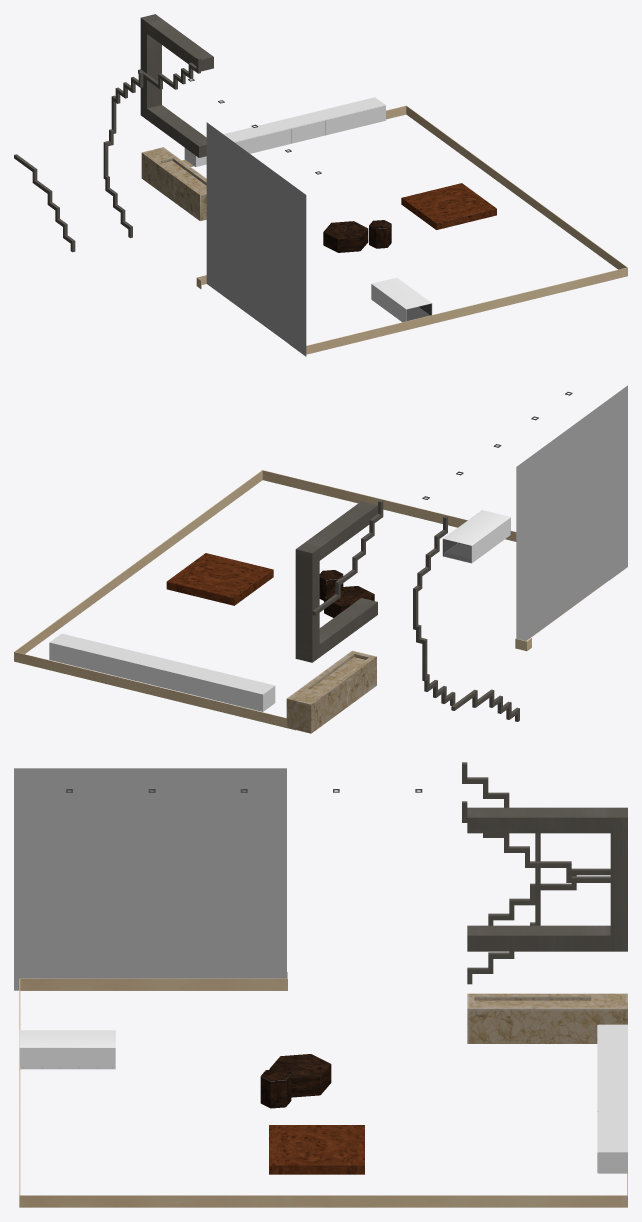
The model's file is DeoTreci.gltf.
The picture shows the model from 3 angles, top to bottom: view 1: azimuth 30°, elevation 25°; view 2: azimuth 150°, elevation 25°; view 3: azimuth 270°, elevation 25°; orthographic projection. The views are drawn at different scales.
Visible parts, largest first — view 1: orman.001, kubusi dugacki.001, Metal stepenice.001, Kubusi.001, Lajsna.001; view 2: orman.001, kubusi dugacki.001, Metal stepenice.001, Lajsna.001, Kubusi.001; view 3: orman.001, Metal stepenice.001, kubusi dugacki.001, Lajsna.001, Kubusi.001.
Part boxes in pixels (bbox=[...]): orman.001: bbox=[206, 122, 306, 356]; kubusi dugacki.001: bbox=[141, 97, 385, 220]; Metal stepenice.001: bbox=[14, 14, 213, 252]; Kubusi.001: bbox=[323, 183, 496, 322]; Lajsna.001: bbox=[182, 105, 627, 354]; orman.001: bbox=[516, 385, 627, 640]; kubusi dugacki.001: bbox=[49, 633, 376, 733]; Metal stepenice.001: bbox=[295, 500, 519, 721]; Lajsna.001: bbox=[14, 470, 609, 730]; Kubusi.001: bbox=[166, 510, 510, 617]; orman.001: bbox=[14, 768, 286, 990]; Metal stepenice.001: bbox=[462, 762, 627, 984]; kubusi dugacki.001: bbox=[467, 993, 627, 1173]; Lajsna.001: bbox=[19, 972, 627, 1207]; Kubusi.001: bbox=[19, 1030, 364, 1174].
Size of the model in its own units: 713 by 286 by 703.
6 materials, 6 textured.
